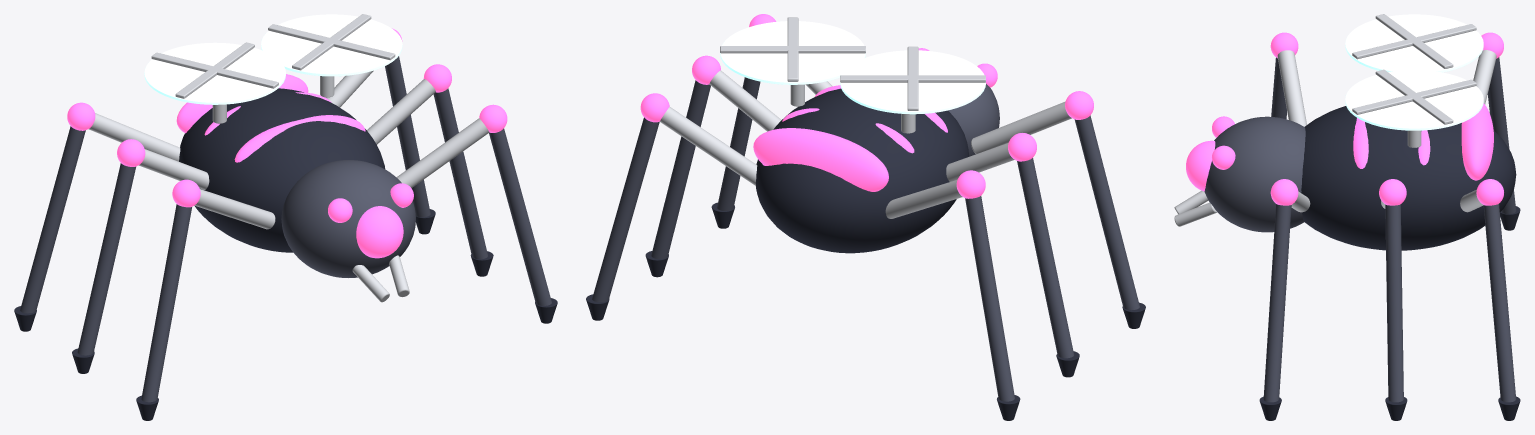
File: bug.glb
3 views of the same model, side by side, from view 1: azimuth 30°, elevation 25°; view 2: azimuth 150°, elevation 25°; view 3: azimuth 270°, elevation 25° (orthographic). The views are drawn at different scales.
Visible parts, largest first — view 1: Sphere, Sphere.004, Cylinder.008, Cylinder.017, Cylinder.002, Cylinder.004, Cylinder.006, Cylinder.011, Cylinder.013, Sphere.005, Cylinder.015, Cylinder.010 (+19 smaller); view 2: Sphere, Cylinder.008, Cylinder.017, Sphere.003, Cylinder.006, Cylinder.004, Cylinder.002, Cylinder.015, Cylinder.013, Cylinder.014, Cylinder.001, Sphere.004 (+14 smaller); view 3: Sphere, Sphere.004, Cylinder.017, Cylinder.008, Cylinder.015, Cylinder.011, Cylinder.013, Sphere.003, Cylinder.001, Cylinder.006, Sphere.005, Cube.003 (+19 smaller).
Part boxes in pixels (x1=…): Sphere: x1=179, y1=88, x2=385, y2=252; Sphere.004: x1=281, y1=160, x2=415, y2=277; Cylinder.008: x1=144, y1=42, x2=285, y2=104; Cylinder.017: x1=261, y1=14, x2=402, y2=76; Cylinder.002: x1=141, y1=204, x2=191, y2=402; Cylinder.004: x1=77, y1=163, x2=135, y2=355; Cylinder.006: x1=20, y1=126, x2=85, y2=313; Cylinder.011: x1=489, y1=128, x2=551, y2=305; Cylinder.013: x1=433, y1=88, x2=487, y2=259; Sphere.005: x1=356, y1=206, x2=403, y2=258; Cylinder.015: x1=385, y1=56, x2=430, y2=217; Cylinder.010: x1=396, y1=118, x2=489, y2=187; Sphere: x1=755, y1=88, x2=969, y2=253; Cylinder.008: x1=840, y1=50, x2=985, y2=114; Cylinder.017: x1=720, y1=21, x2=865, y2=84; Sphere.003: x1=753, y1=128, x2=888, y2=191; Cylinder.006: x1=965, y1=196, x2=1014, y2=401; Cylinder.004: x1=1017, y1=158, x2=1074, y2=358; Cylinder.002: x1=1074, y1=115, x2=1139, y2=310; Cylinder.015: x1=592, y1=117, x2=659, y2=302; Cylinder.013: x1=651, y1=80, x2=710, y2=258; Cylinder.014: x1=659, y1=107, x2=757, y2=185; Cylinder.001: x1=971, y1=101, x2=1071, y2=153; Sphere.004: x1=948, y1=84, x2=999, y2=156; Sphere: x1=1301, y1=106, x2=1516, y2=250; Sphere.004: x1=1204, y1=116, x2=1305, y2=232; Cylinder.017: x1=1345, y1=70, x2=1483, y2=130; Cylinder.008: x1=1345, y1=14, x2=1483, y2=72; Cylinder.015: x1=1483, y1=204, x2=1516, y2=402; Cylinder.011: x1=1263, y1=204, x2=1291, y2=402; Cylinder.013: x1=1385, y1=204, x2=1403, y2=402; Sphere.003: x1=1461, y1=103, x2=1493, y2=180; Cylinder.001: x1=1277, y1=50, x2=1306, y2=126; Cylinder.006: x1=1487, y1=57, x2=1516, y2=214; Sphere.005: x1=1186, y1=140, x2=1215, y2=191; Cube.003: x1=1352, y1=79, x2=1476, y2=114.
Bounding box in the file's own units: 2.73 × 1.63 × 2.
